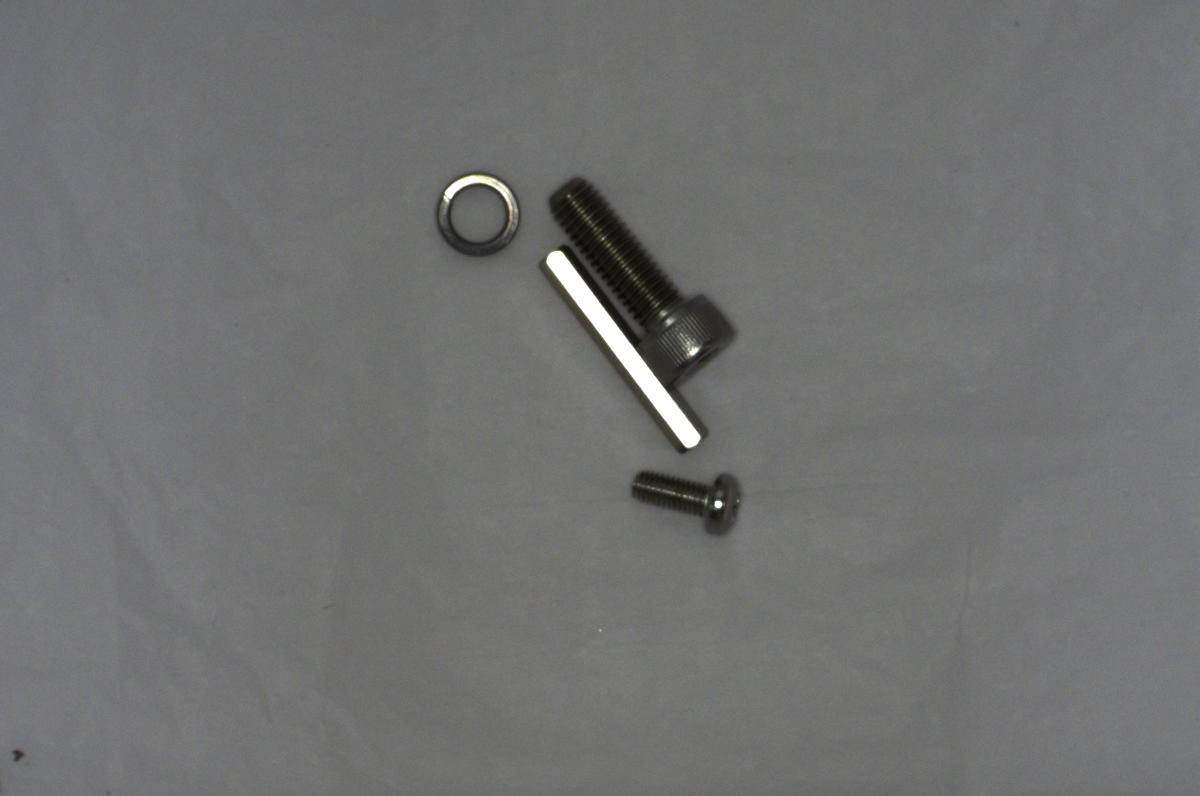Double hexagonal column: (537, 241, 708, 454)
Hexagon screw: (541, 172, 738, 383)
Round head screw: (620, 455, 757, 545)
Spring washer: (422, 165, 528, 261)
